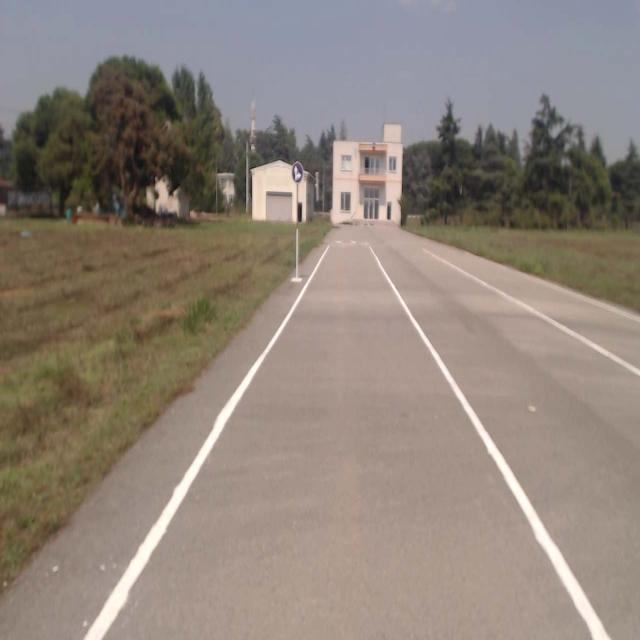ilerisag: (292, 163, 303, 183)
